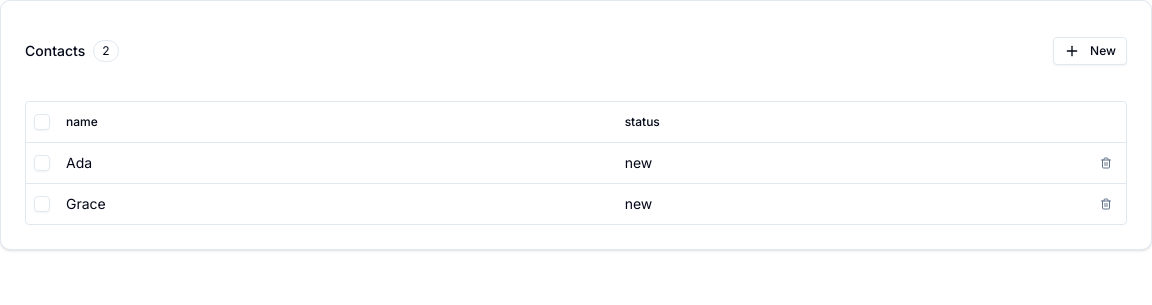
Scenario: RelatedList › mass edit (bulk jobs) › select-all selects every visible row
The width and height of the screenshot is (1152, 305).
Click the checkbox with test id "related-select-all" at (42, 122), box top-left (34, 114), bottom-right (50, 130)
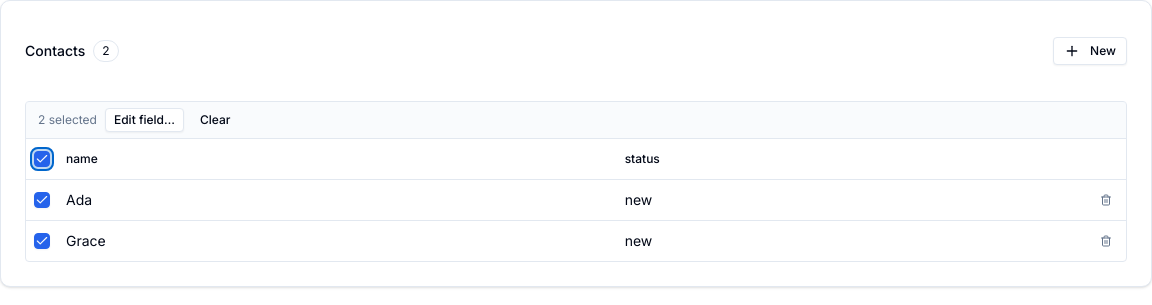
Check: the text with test id "related-mass-edit-count" reads "2 selected", box top-left (38, 112), bottom-right (97, 128)
